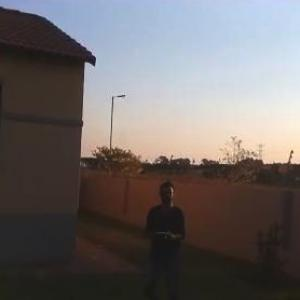follow: (138, 175, 194, 299)
